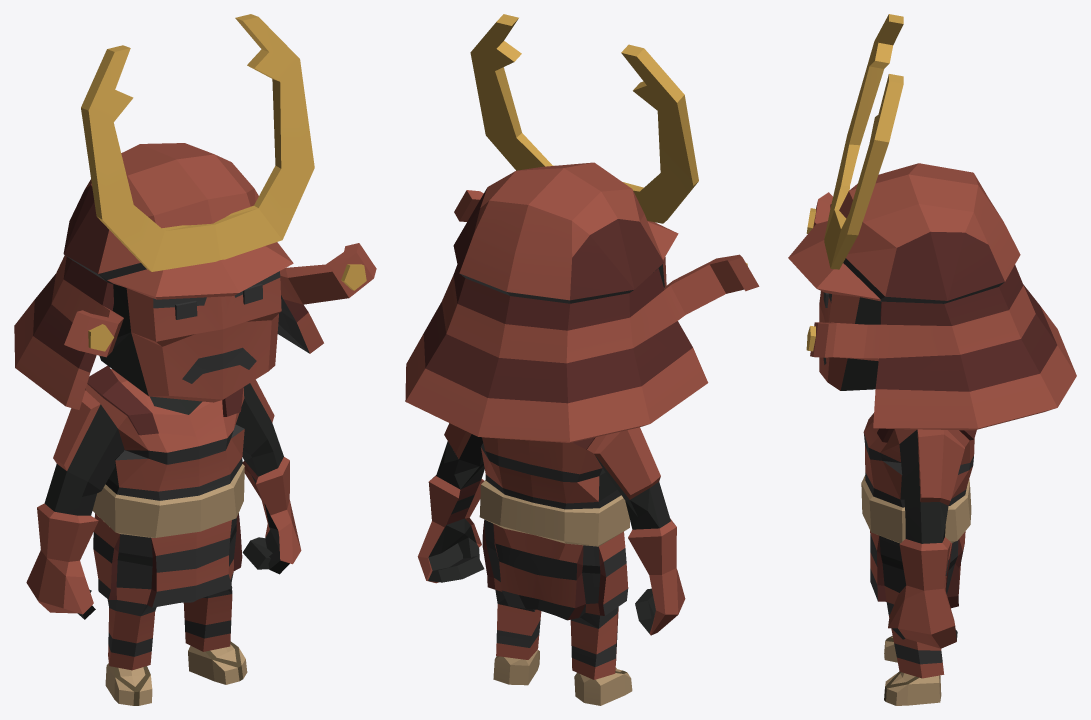
Rendered from SM_Prop_Toy_Samurai_Full_Painted_01.obj.
3 views of the same model, side by side, from view 1: azimuth 30°, elevation 25°; view 2: azimuth 150°, elevation 25°; view 3: azimuth 270°, elevation 25° (orthographic). The views are drawn at different scales.
Visible parts, largest first — view 1: SM_Prop_Toy_Samurai_Full_Painted_01_0; view 2: SM_Prop_Toy_Samurai_Full_Painted_01_0; view 3: SM_Prop_Toy_Samurai_Full_Painted_01_0.
Part boxes in pixels (x1=…): SM_Prop_Toy_Samurai_Full_Painted_01_0: x1=14, y1=14, x2=376, y2=705; SM_Prop_Toy_Samurai_Full_Painted_01_0: x1=405, y1=14, x2=759, y2=705; SM_Prop_Toy_Samurai_Full_Painted_01_0: x1=788, y1=14, x2=1076, y2=705.
Size of the model in its own units: 0.2443 by 0.4921 by 0.2043.
1 material, 1 textured.
